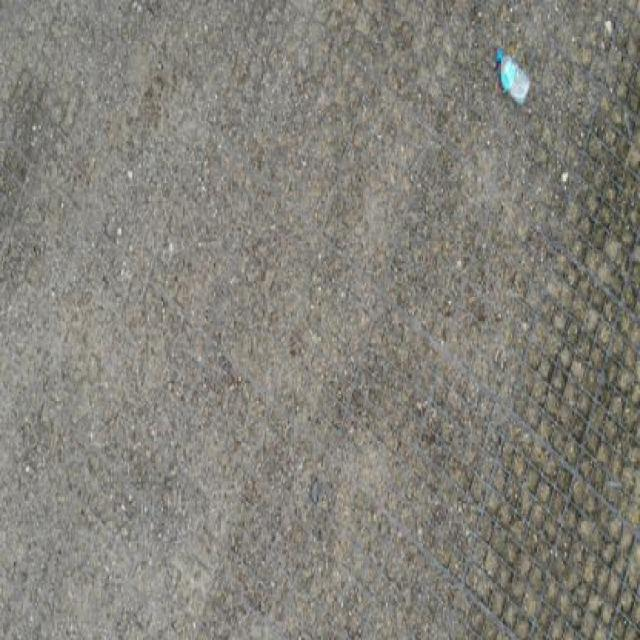Garbage: (495, 49, 532, 108)
